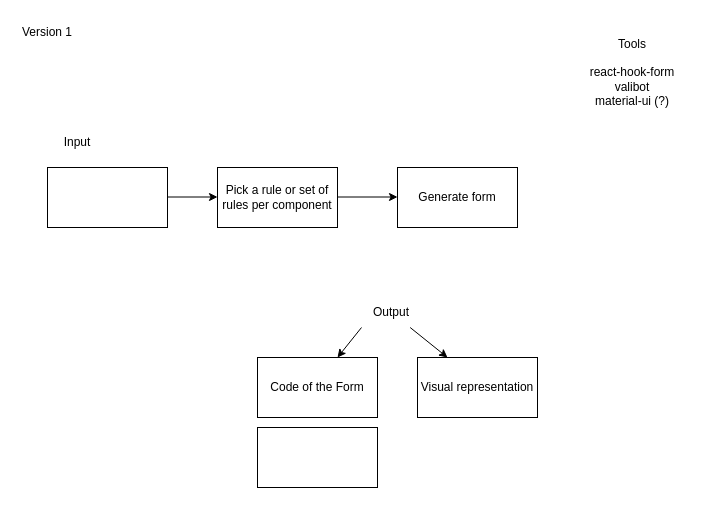
Some shapes in this 704 by 505 pixel diagram are drawn without their labels. Each missing label, with the centre of its shape:
Pick a component: point (107, 197)
Unit tests: point (317, 457)
